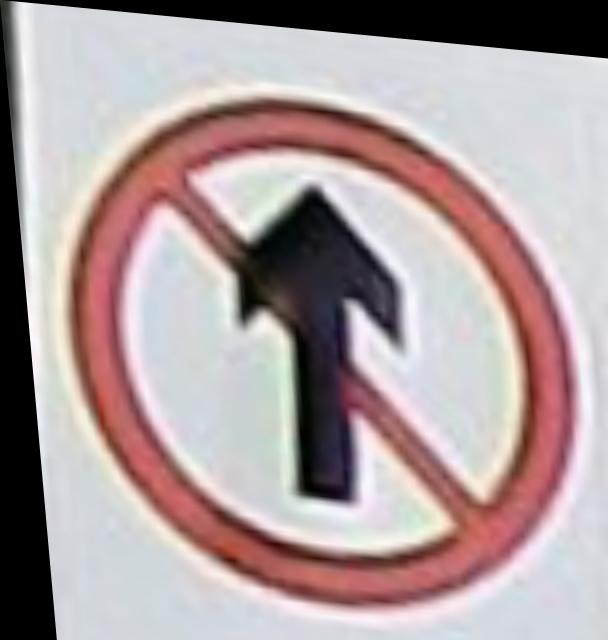not_go_straight: (50, 59, 596, 619)
